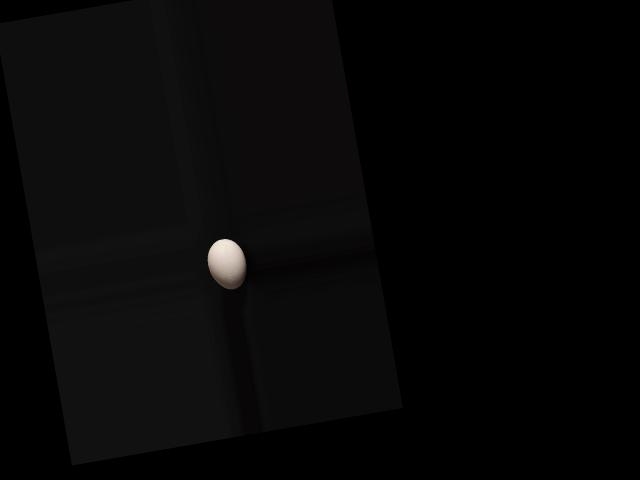egg: (204, 235, 250, 292)
